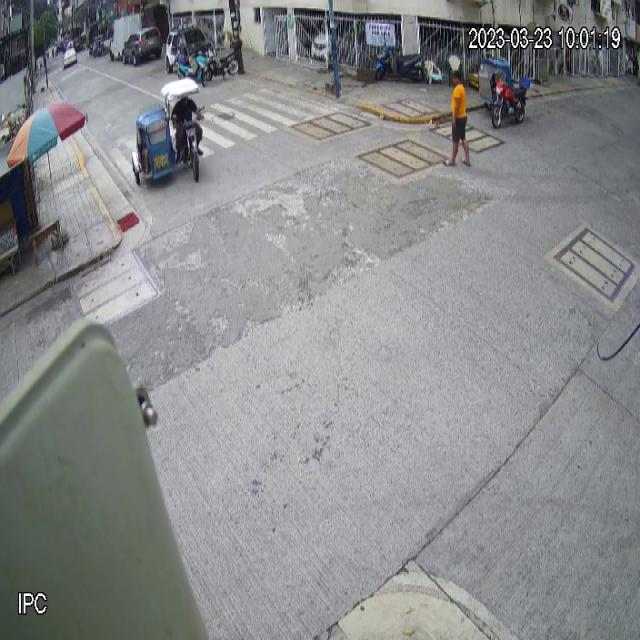Tricycle: (130, 77, 206, 187), (477, 54, 531, 127)
